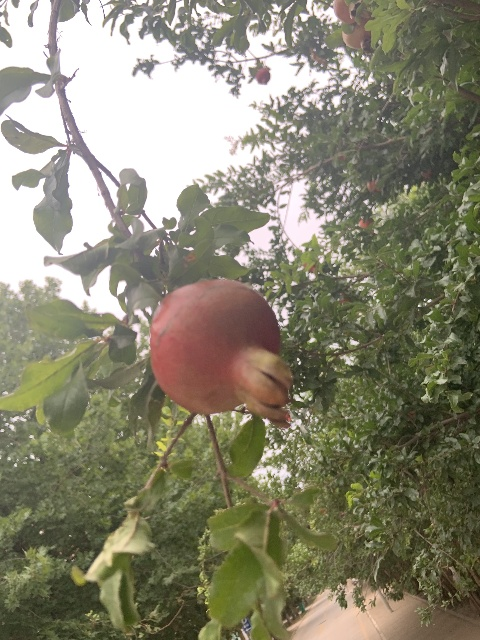ripe: (148, 279, 293, 425), (255, 67, 270, 84)
